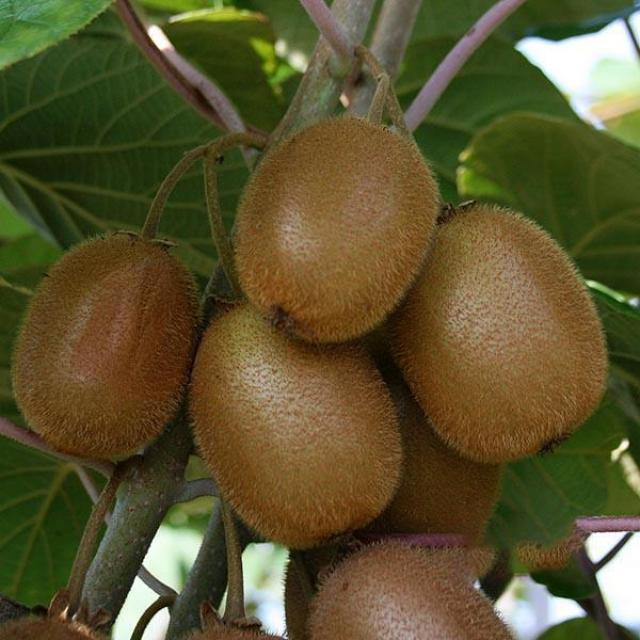kiwi: (389, 196, 621, 459), (186, 303, 418, 547), (240, 118, 452, 350), (5, 223, 208, 463), (368, 380, 512, 567), (302, 540, 518, 640)
